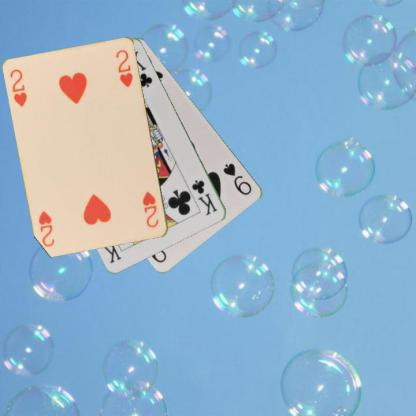2h: (7, 67, 29, 109), (140, 189, 160, 229)
9s: (220, 160, 254, 197)
Kc: (189, 178, 219, 218)
